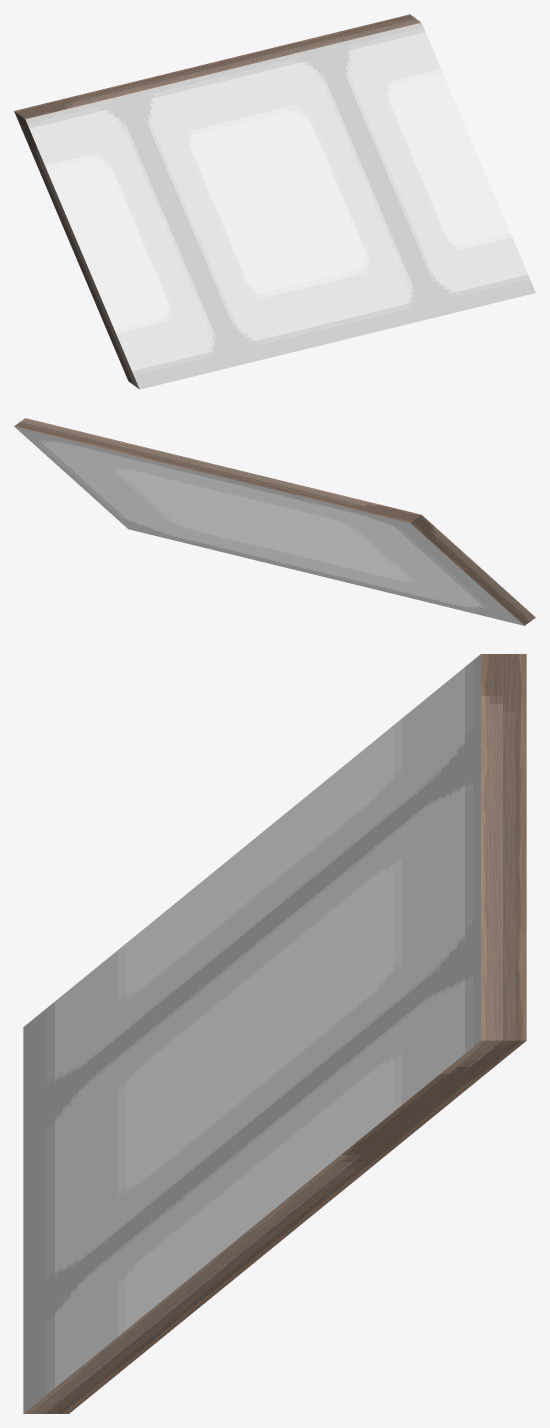
File: SM_Roof_05.fbx
3 renders of one model, top to bottom at view 1: azimuth 30°, elevation 25°; view 2: azimuth 150°, elevation 25°; view 3: azimuth 270°, elevation 25°, orthographic. The views are drawn at different scales.
Parts seen in each view (by area): view 1: SM_Roof_05_LOD0; view 2: SM_Roof_05_LOD0; view 3: SM_Roof_05_LOD0.
Boxes of the visible parts, x1,y1,x2,y2 form: SM_Roof_05_LOD0: (14, 14, 535, 389); SM_Roof_05_LOD0: (14, 418, 535, 625); SM_Roof_05_LOD0: (23, 654, 526, 1413).
Bounding box in the file's own units: 1000 × 550 × 450.
